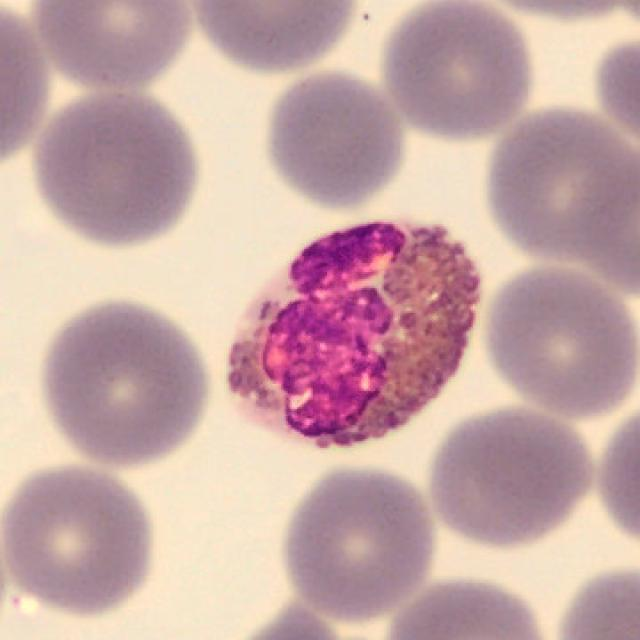Eosinofilo: (228, 222, 482, 450)
